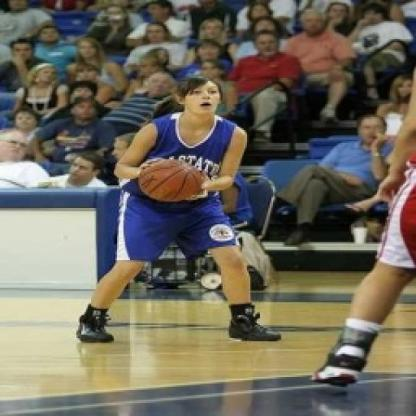basketball: (137, 160, 206, 203)
